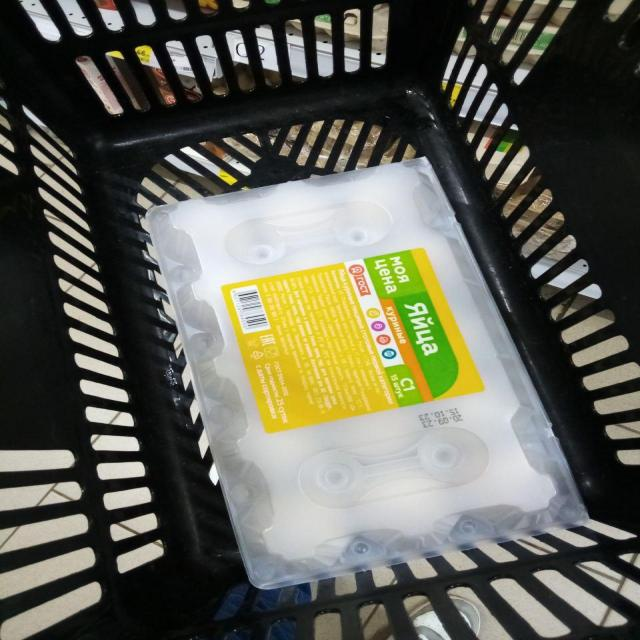Eggs: (147, 159, 587, 588)
